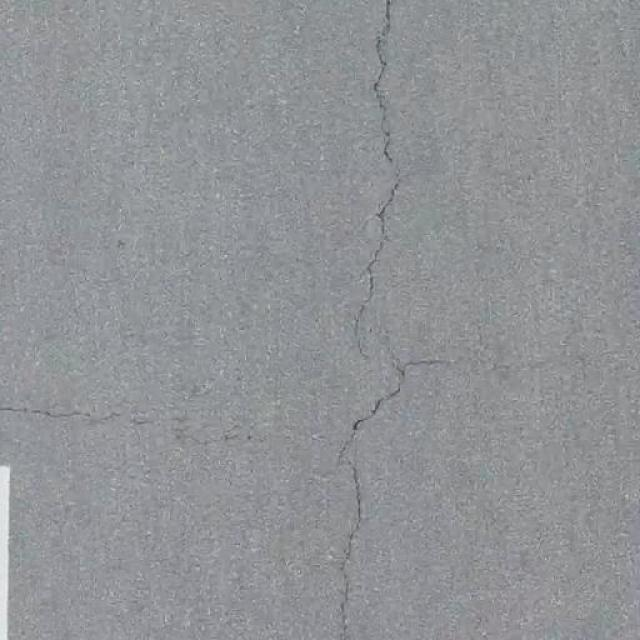Crack: (350, 0, 416, 634)
